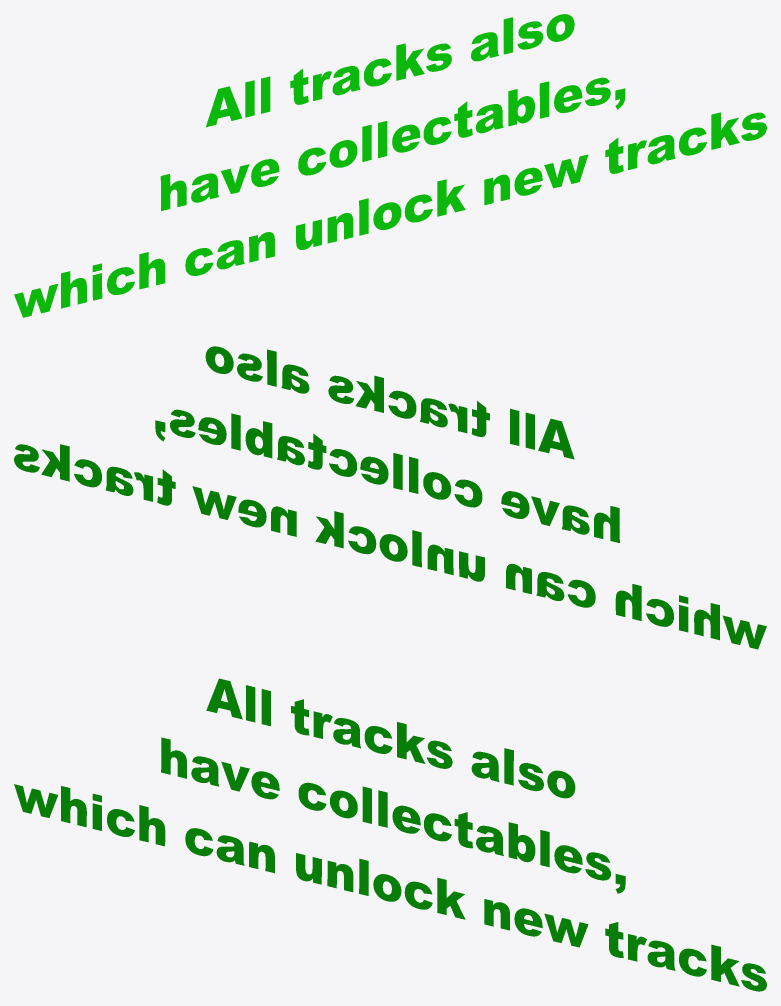
The model's file is tutorial_7.dae.
The picture shows the model from 3 angles, top to bottom: view 1: azimuth 30°, elevation 25°; view 2: azimuth 150°, elevation 25°; view 3: azimuth 330°, elevation 25°; orthographic projection.
Visible parts, largest first — view 1: All_tracks_also_ (×27); view 2: All_tracks_also_ (×27); view 3: All_tracks_also_ (×27).
Boxes of the visible parts, box(x1,y1,x2,y2) form: All_tracks_also_ (×27): box(14, 14, 739, 317); All_tracks_also_ (×27): box(41, 346, 766, 649); All_tracks_also_ (×27): box(14, 678, 739, 986).
Bounding box in the file's own units: 4406 × 4.53 × 1014.
